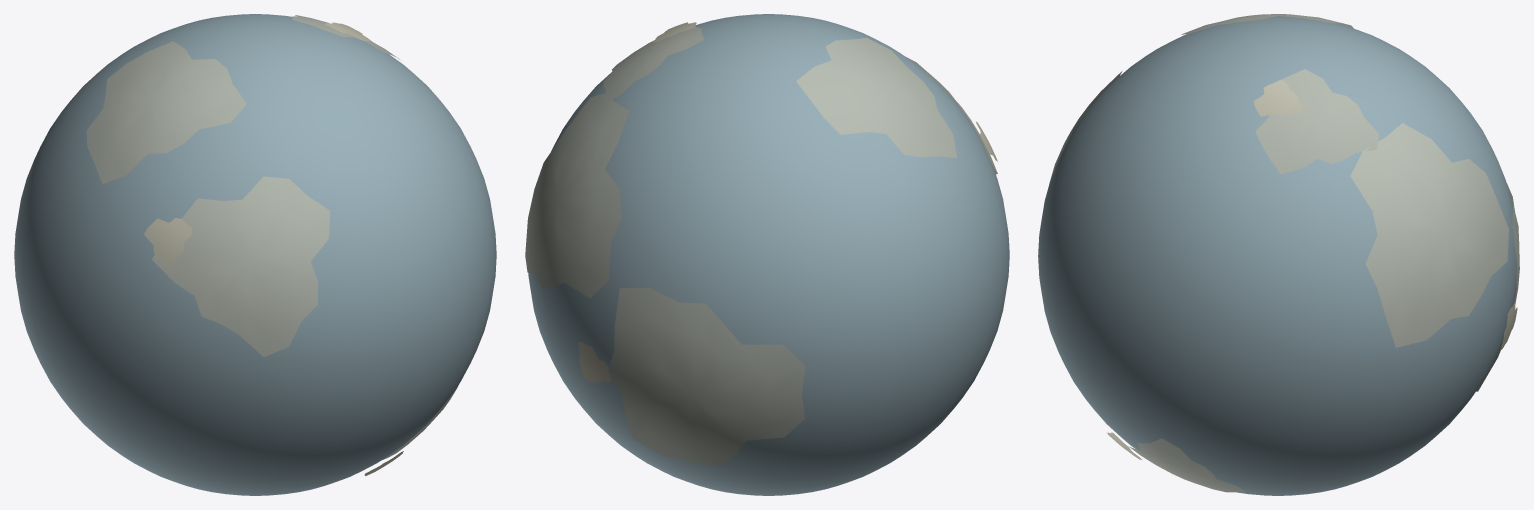
File: planet_06.glb
3 views of the same model, side by side, from view 1: azimuth 30°, elevation 25°; view 2: azimuth 150°, elevation 25°; view 3: azimuth 270°, elevation 25° (orthographic).
Parts seen in each view (by area): view 1: planet_06_painted_mesh; view 2: planet_06_painted_mesh; view 3: planet_06_painted_mesh.
Part boxes in pixels (box(x1,y1,x2,y2)): planet_06_painted_mesh: box(14, 14, 496, 495); planet_06_painted_mesh: box(525, 14, 1009, 495); planet_06_painted_mesh: box(1038, 14, 1519, 495).
Bounding box in the file's own units: 2 × 2 × 2.01.
